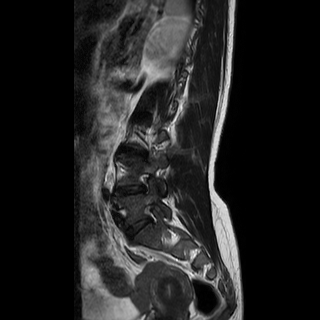LFS1: (133, 166, 157, 199)
